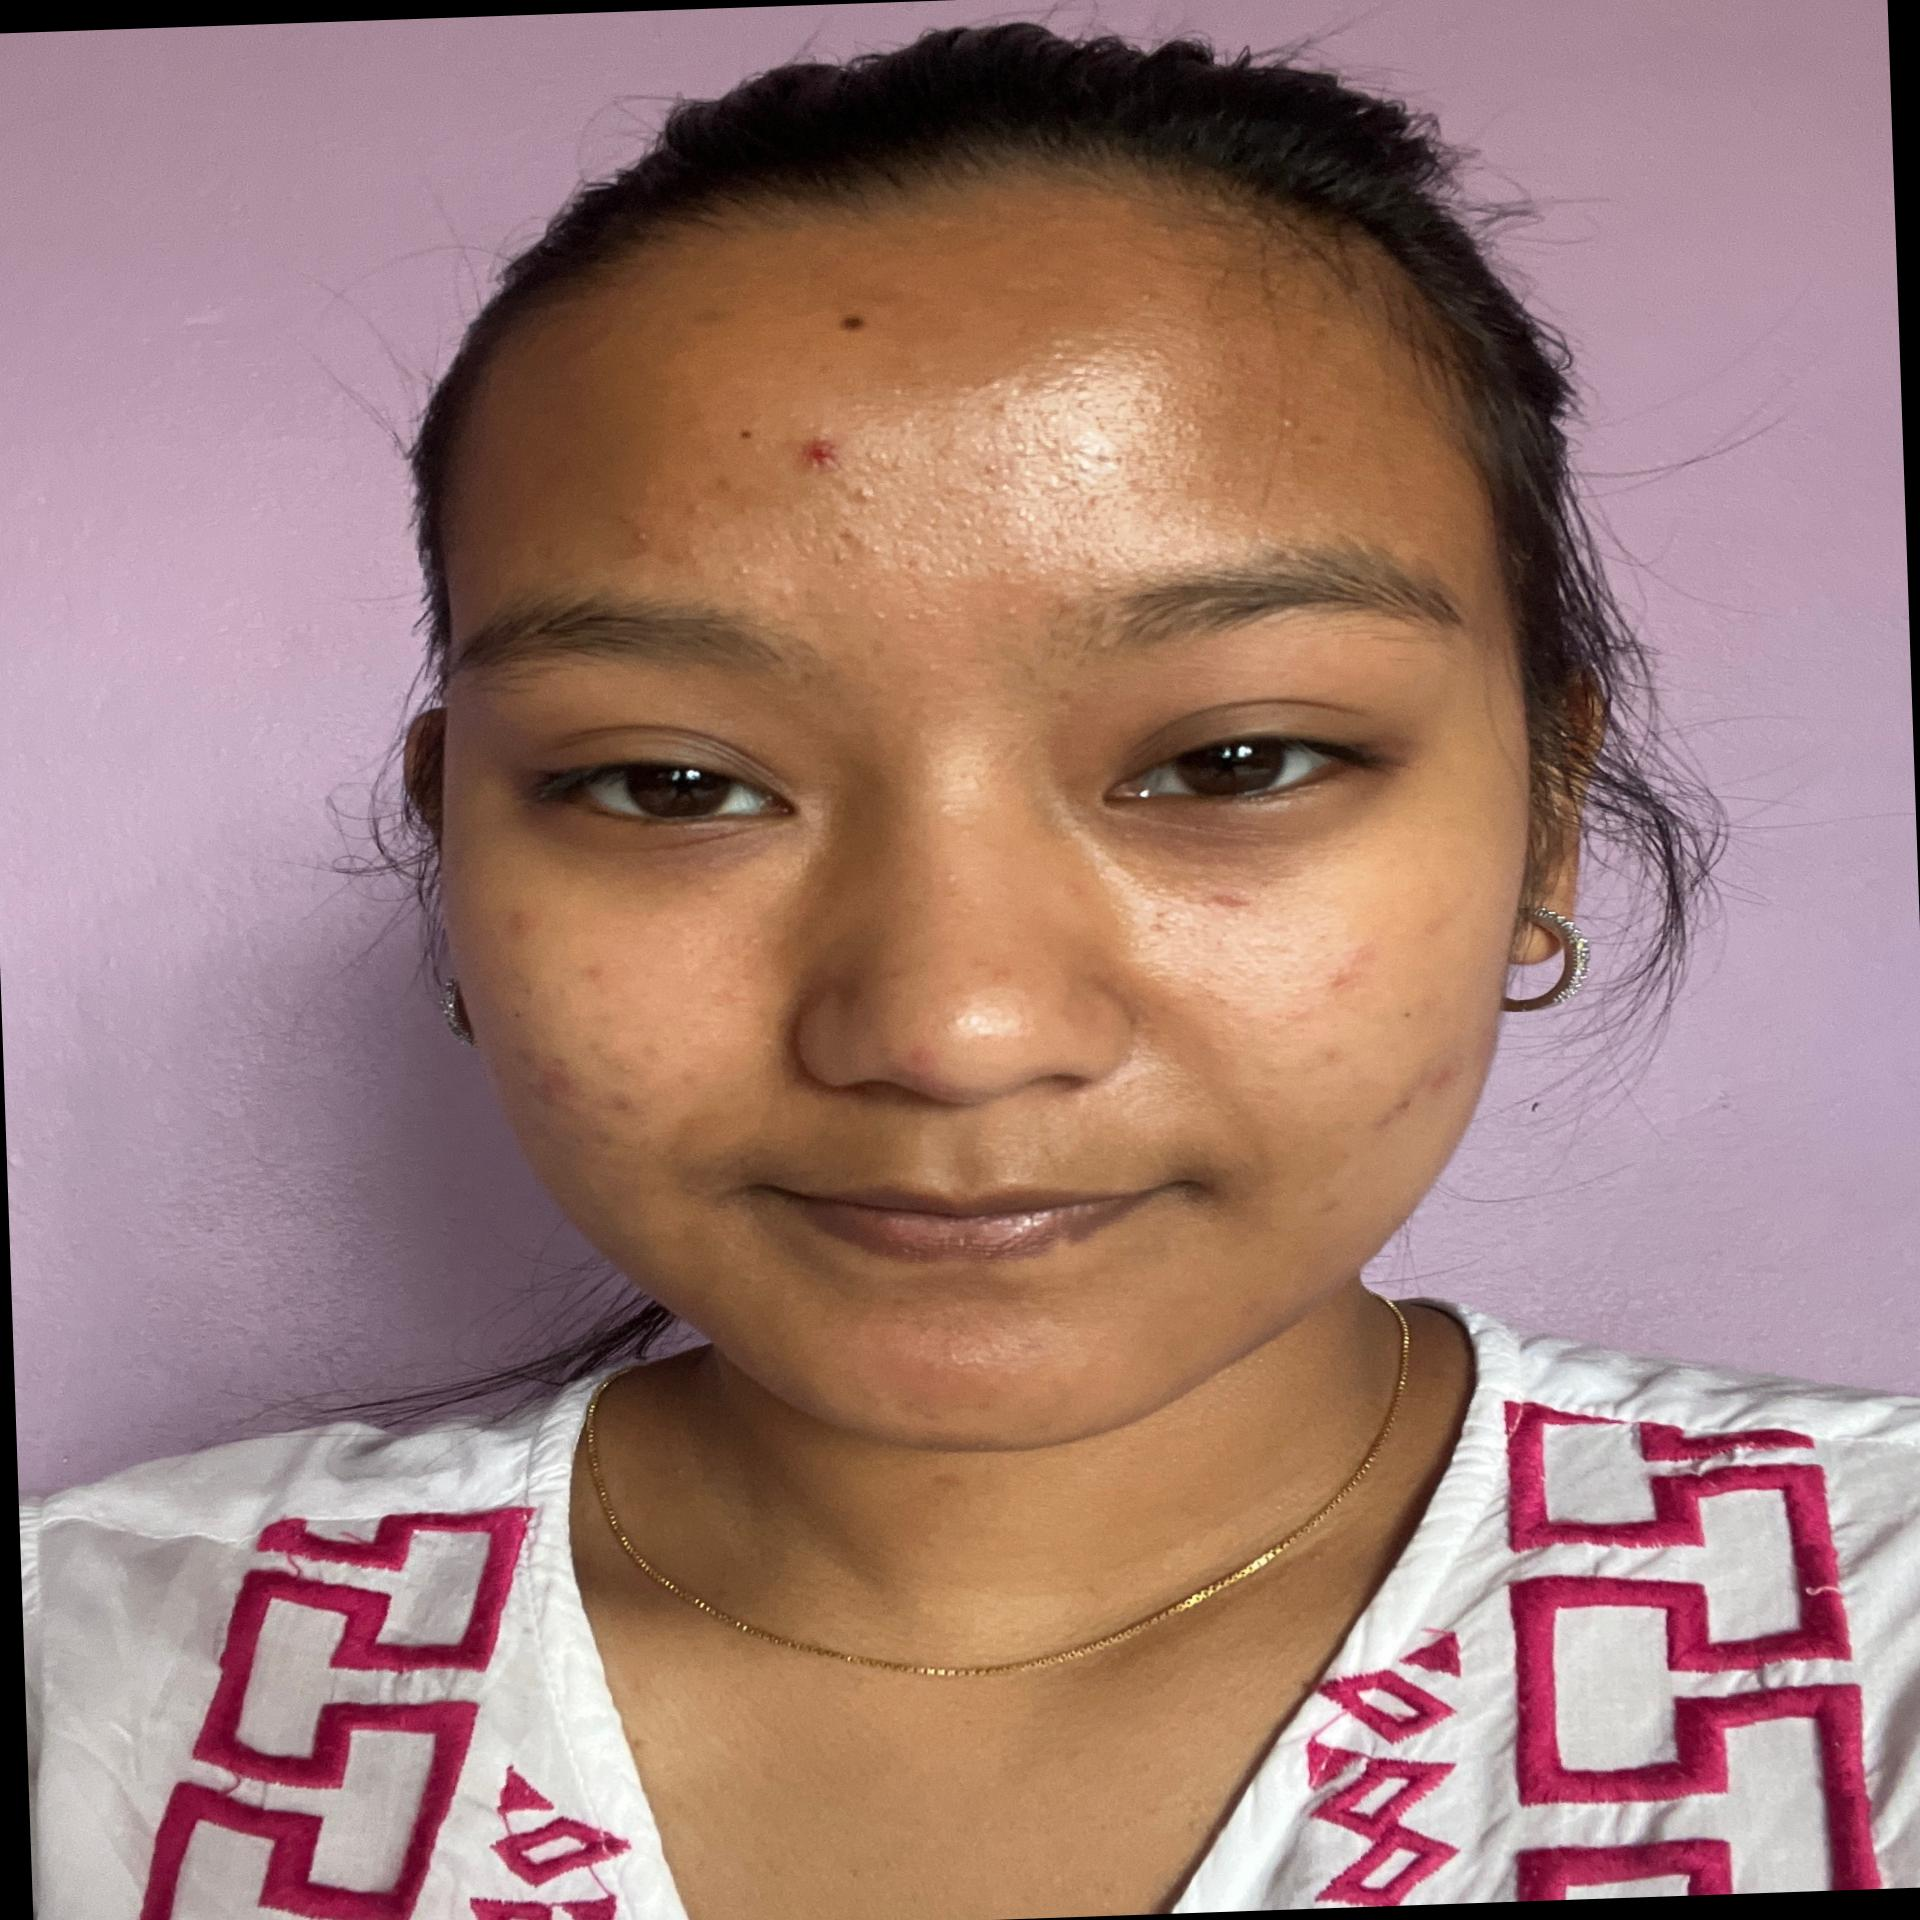Acne: (505, 1037, 638, 1157), (872, 1317, 993, 1407), (1366, 1053, 1465, 1127), (1313, 939, 1385, 992), (789, 427, 844, 475), (969, 948, 1018, 988), (1196, 883, 1254, 916), (705, 979, 754, 1015), (498, 907, 543, 944), (898, 1041, 944, 1073), (577, 958, 612, 992), (1312, 1190, 1345, 1224), (1282, 999, 1315, 1030), (1057, 872, 1085, 907), (1313, 1043, 1349, 1071)
Blackhead: (621, 466, 1118, 591), (856, 591, 1034, 629)
